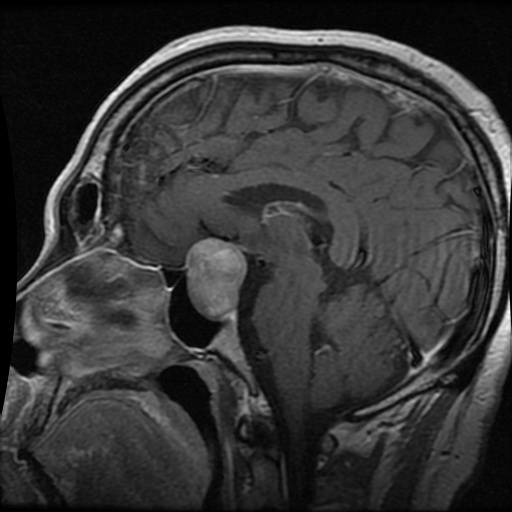pituitary: (186, 237, 245, 317)
